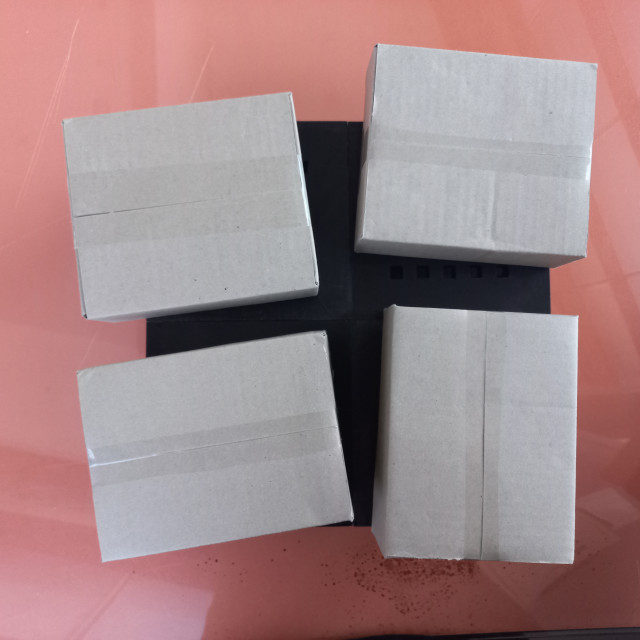box: (73, 328, 355, 566), (59, 88, 321, 323), (352, 37, 600, 271), (370, 304, 580, 566)
